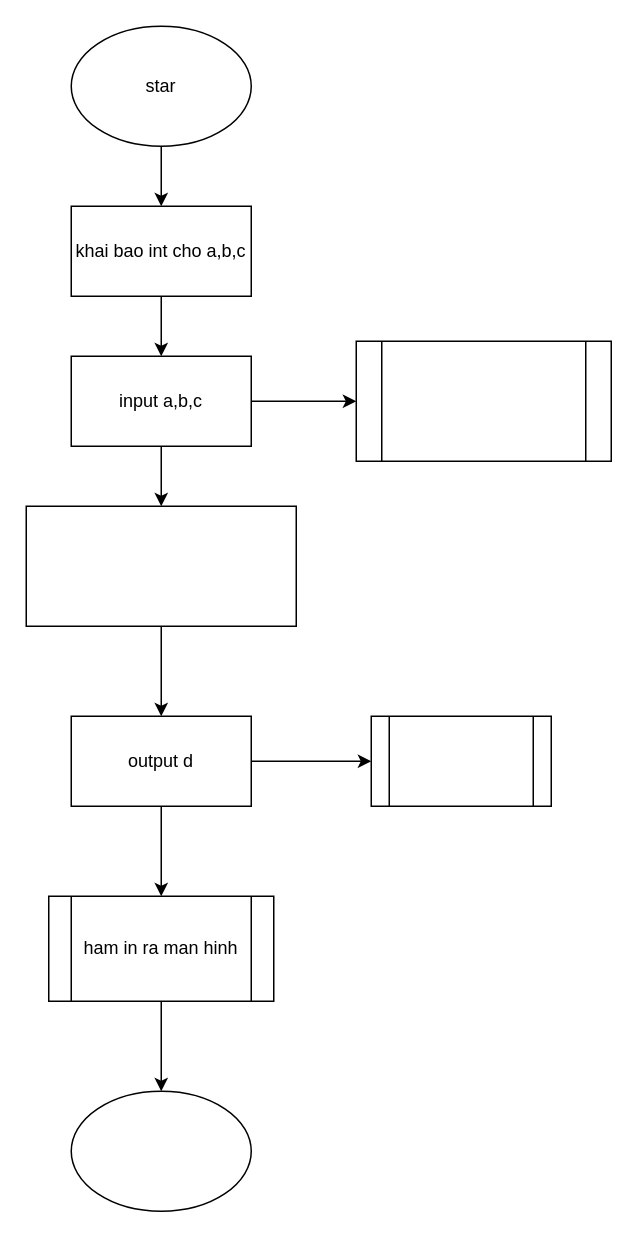
This 638x1238 diagram has some shape labels left out. The shapes that lost their labels are listed below. From the top down, each one's box as (x1, y1, x2, y2) in pixels, then its label:
(355, 340, 611, 461): Cin>>a>>b>>c
(25, 505, 296, 626): d=a+b+c
(70, 1090, 251, 1211): end
